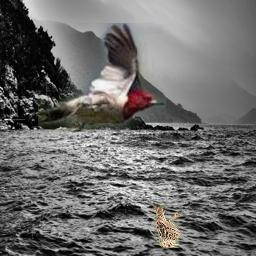Sparrow: (153, 205, 181, 248)
Woodpecker: (38, 23, 166, 132)
